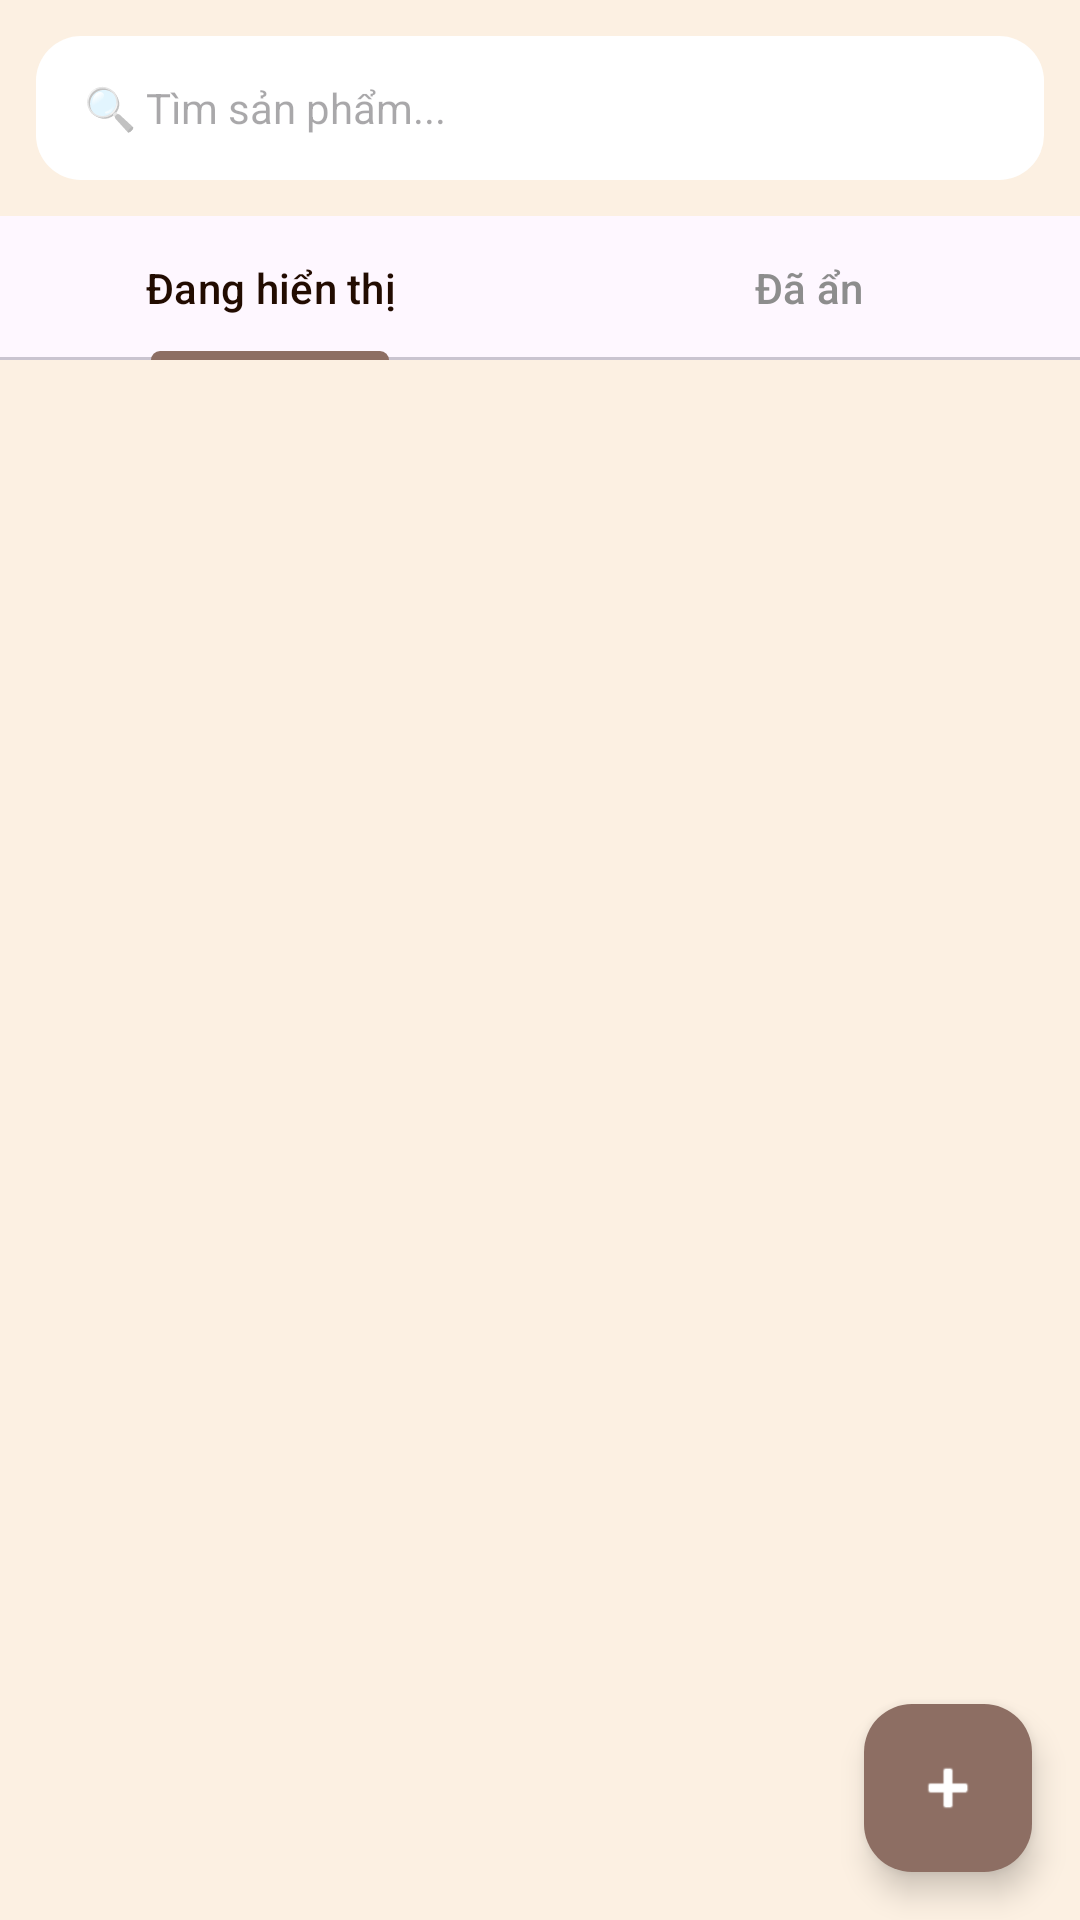

Icons on this 1080×1920 Android screen, each with its box as bbox=(x1, y1, x2, y2):
Thêm sản phẩm: bbox=(864, 1704, 1032, 1872)
